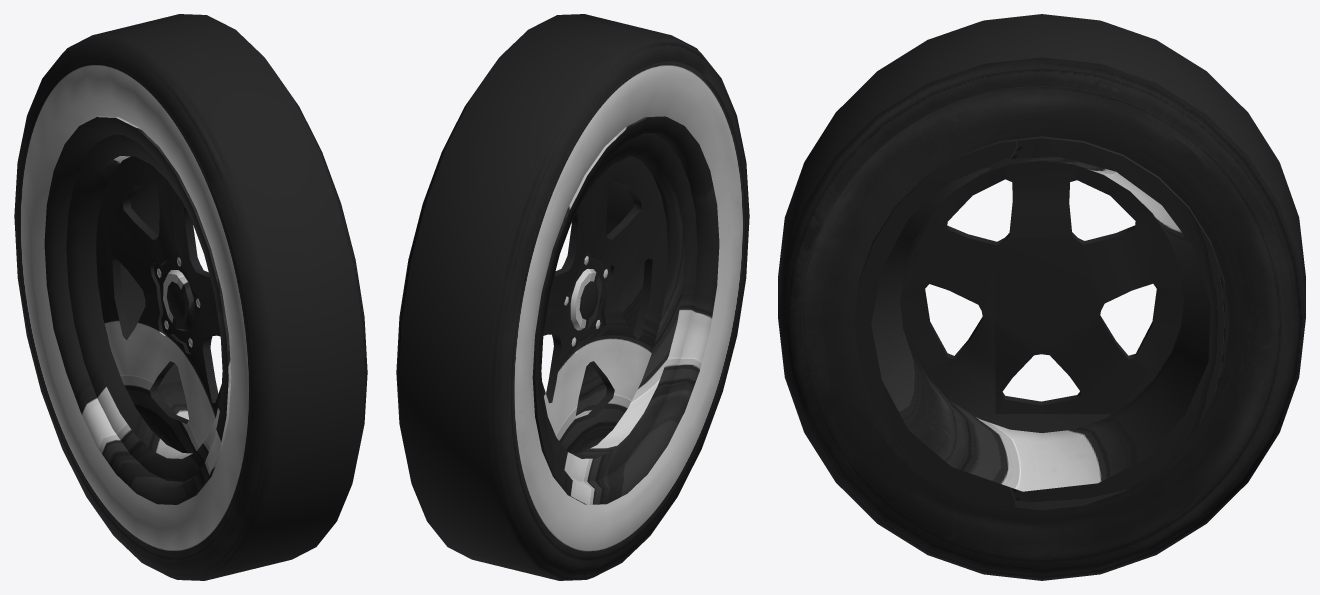
The model's file is WheelFL.obj.
The picture shows the model from 3 angles, left to right: view 1: azimuth 30°, elevation 25°; view 2: azimuth 150°, elevation 25°; view 3: azimuth 270°, elevation 25°; orthographic projection.
Parts seen in each view (by area): view 1: Wheel_FR; view 2: Wheel_FR; view 3: Wheel_FR.
Part boxes in pixels (x1=…): Wheel_FR: x1=14, y1=14, x2=367, y2=580; Wheel_FR: x1=396, y1=14, x2=749, y2=580; Wheel_FR: x1=778, y1=14, x2=1305, y2=580.
Bounding box in the file's own units: 2.8 × 12.2 × 11.14.
Materials: 1 (1 with a texture image).
